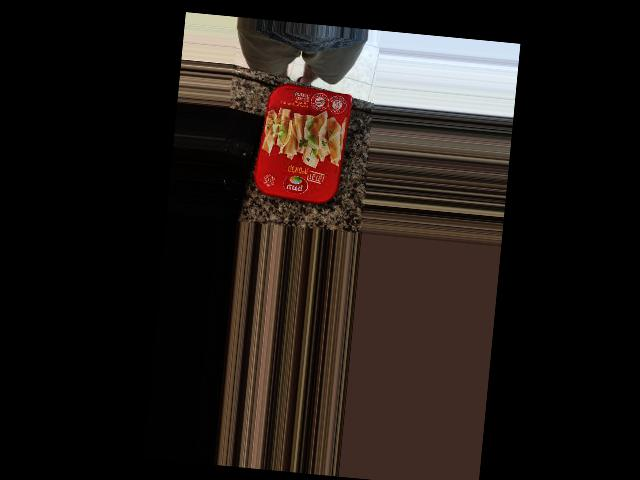cheese: (253, 62, 344, 181)
